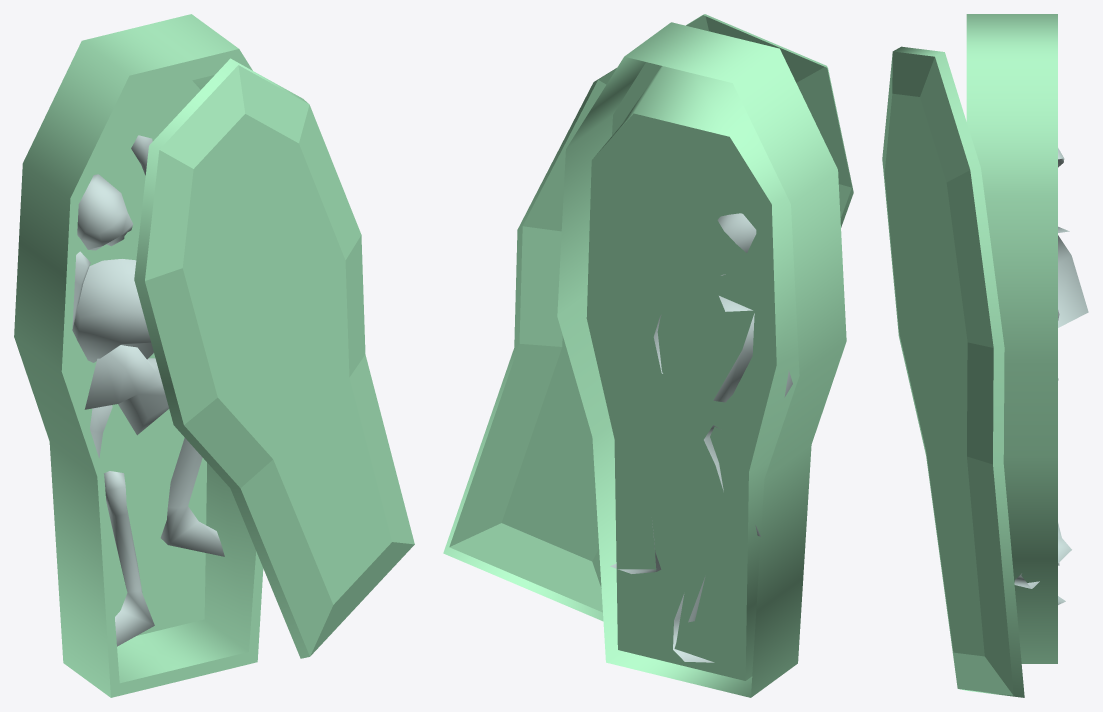
The picture shows the model from 3 angles, left to right: view 1: azimuth 30°, elevation 25°; view 2: azimuth 150°, elevation 25°; view 3: azimuth 270°, elevation 25°; orthographic projection. The views are drawn at different scales.
Parts seen in each view (by area): view 1: Object52; view 2: Object52; view 3: Object52.
Part boxes in pixels (<box>): Object52: <box>14,14,414,697</box>; Object52: <box>443,14,853,697</box>; Object52: <box>882,14,1088,697</box>.
Bounding box in the file's own units: 13782 × 21902 × 6822.
